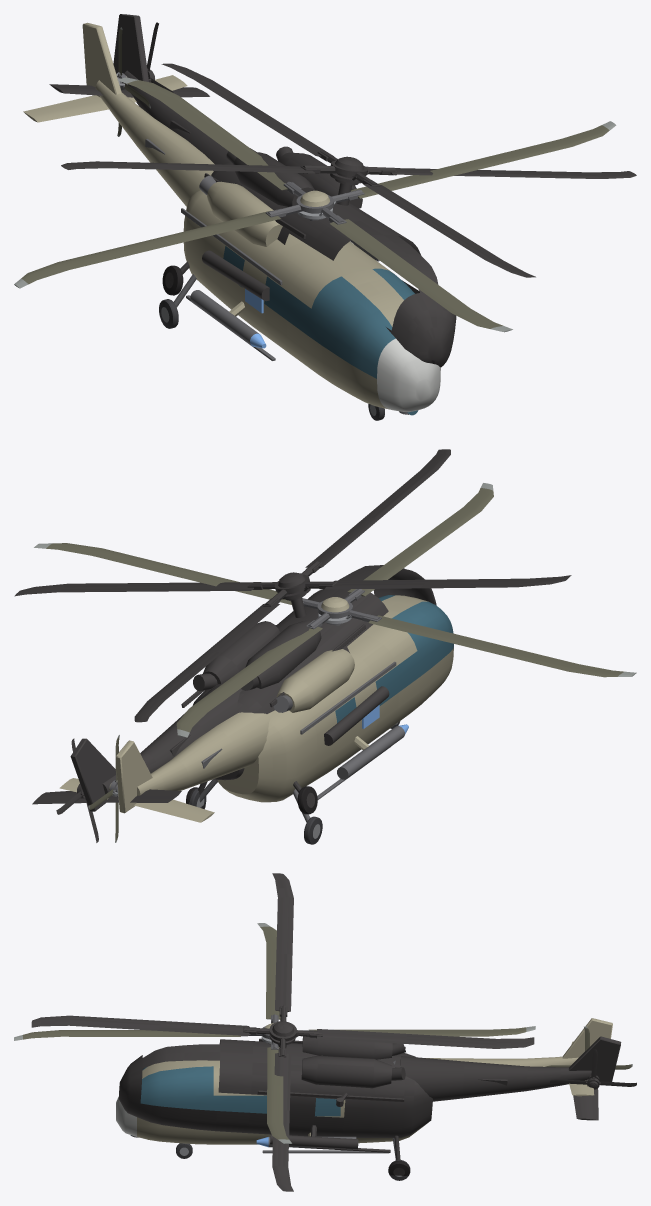
Rendered from navalHelicopter__aw159_korean_asw.glb.
3 renders of one model, top to bottom at view 1: azimuth 30°, elevation 25°; view 2: azimuth 150°, elevation 25°; view 3: azimuth 270°, elevation 25°, orthographic. The views are drawn at different scales.
Visible parts, largest first — view 1: Fuselage_Mesh, Wreck, Rotor_Main_Mesh, Engines_Mesh, Naval_Mission_Kit_Mesh, Landing_Gear_Mesh; view 2: Wreck, Fuselage_Mesh, Rotor_Main_Mesh, Engines_Mesh, Naval_Mission_Kit_Mesh, Landing_Gear_Mesh; view 3: Wreck, Fuselage_Mesh, Rotor_Main_Mesh.
Boxes of the visible parts, <box> form: Fuselage_Mesh: <box>23,22,440,415</box>; Wreck: <box>49,14,636,367</box>; Rotor_Main_Mesh: <box>14,77,616,332</box>; Engines_Mesh: <box>199,175,289,246</box>; Naval_Mission_Kit_Mesh: <box>190,290,266,348</box>; Landing_Gear_Mesh: <box>159,274,384,420</box>; Wreck: <box>14,449,571,842</box>; Fuselage_Mesh: <box>59,595,453,822</box>; Rotor_Main_Mesh: <box>34,483,636,737</box>; Engines_Mesh: <box>273,649,354,712</box>; Naval_Mission_Kit_Mesh: <box>337,724,408,779</box>; Landing_Gear_Mesh: <box>188,721,400,844</box>; Wreck: <box>31,873,636,1191</box>; Fuselage_Mesh: <box>116,1018,612,1153</box>; Rotor_Main_Mesh: <box>14,923,535,1143</box>.
Size of what is drawn, in the model's own units: 13.21 by 5.3 by 15.29.
